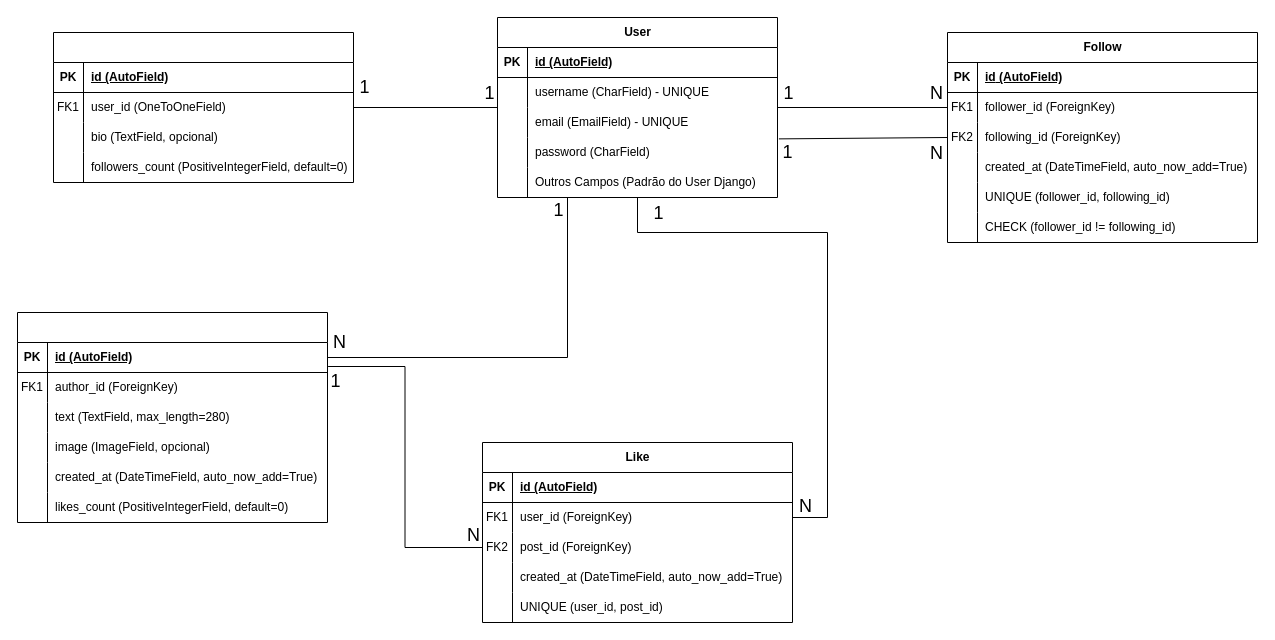
Image size: 1275x640. Some labels were removed from this diagram. Each missing label, with the box of its shape:
Post: (16, 312, 328, 522)
Profile: (52, 32, 354, 182)
